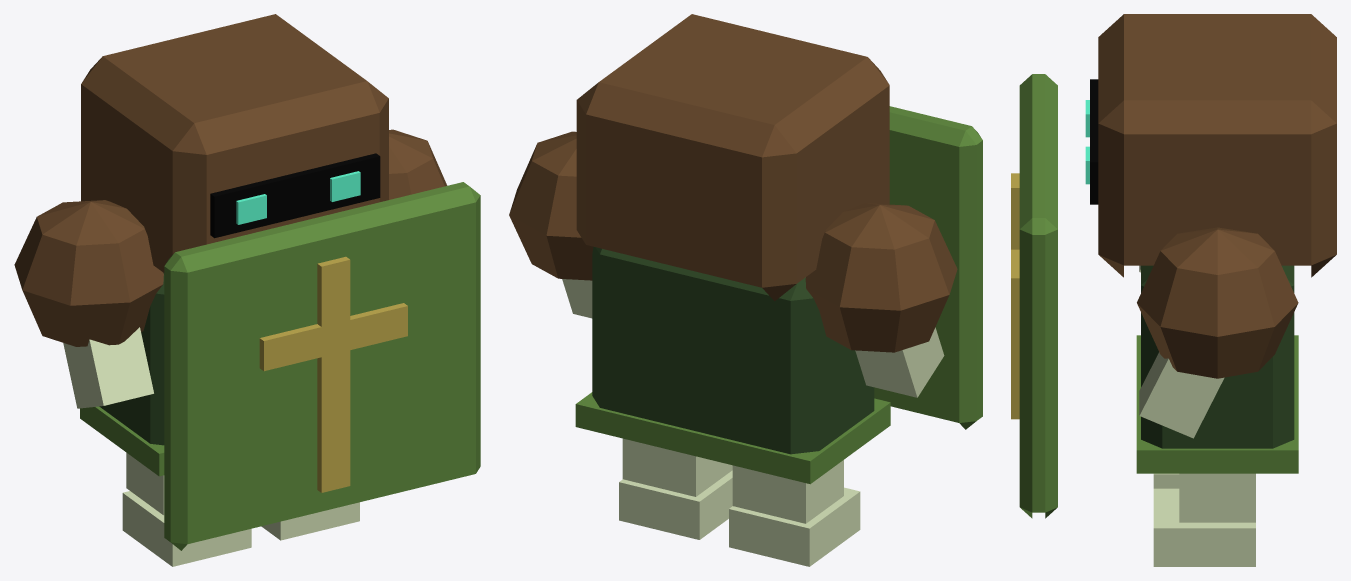
Rendered from brute_r6.glb.
3 views of the same model, side by side, from view 1: azimuth 30°, elevation 25°; view 2: azimuth 150°, elevation 25°; view 3: azimuth 270°, elevation 25° (orthographic). The views are drawn at different scales.
Parts seen in each view (by area): view 1: brute_r6_mesh; view 2: brute_r6_mesh; view 3: brute_r6_mesh.
Part boxes in pixels (x1,y1,x2,y2): brute_r6_mesh: (14, 14, 480, 566); brute_r6_mesh: (509, 14, 982, 566); brute_r6_mesh: (1011, 14, 1336, 566).
Bounding box in the file's own units: 2.16 × 2.2 × 1.4.
1 material, 1 textured.
